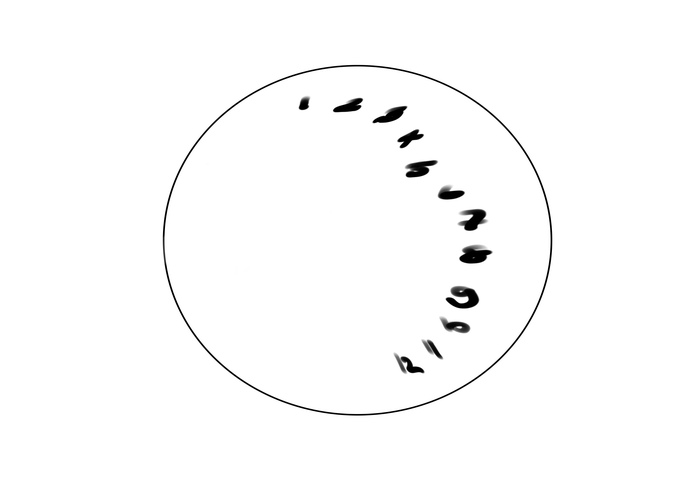eight: (458, 239, 494, 268)
eleven: (419, 337, 444, 362)
five: (405, 156, 437, 178)
four: (397, 126, 426, 150)
one: (294, 94, 316, 116)
seven: (455, 206, 491, 233)
six: (434, 181, 469, 203)
ten: (438, 312, 475, 336)
three: (372, 96, 409, 123)
twelve: (445, 279, 482, 313), (389, 349, 430, 379)
two: (334, 89, 363, 114)
